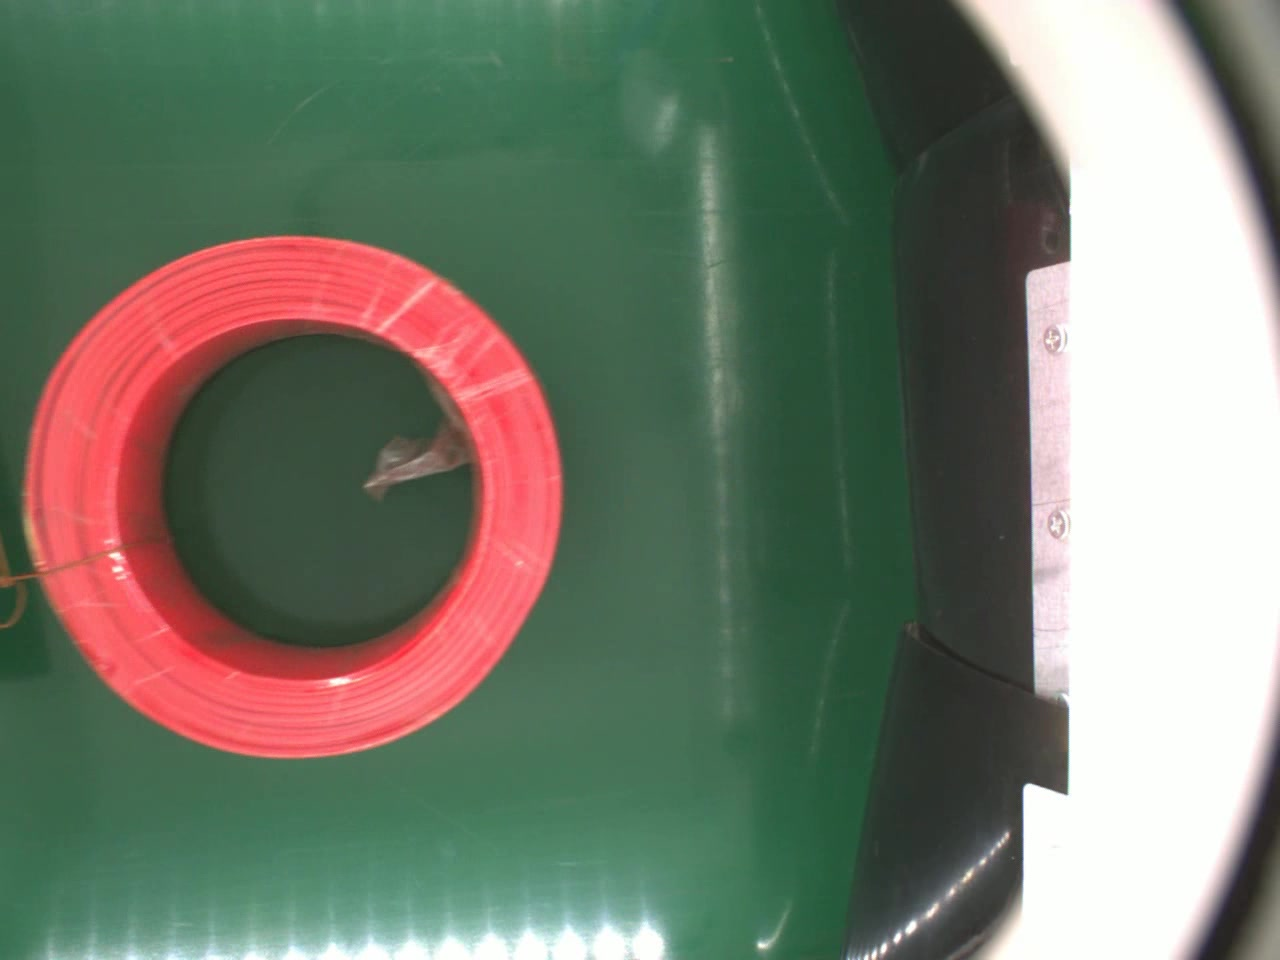red: (19, 232, 561, 762)
